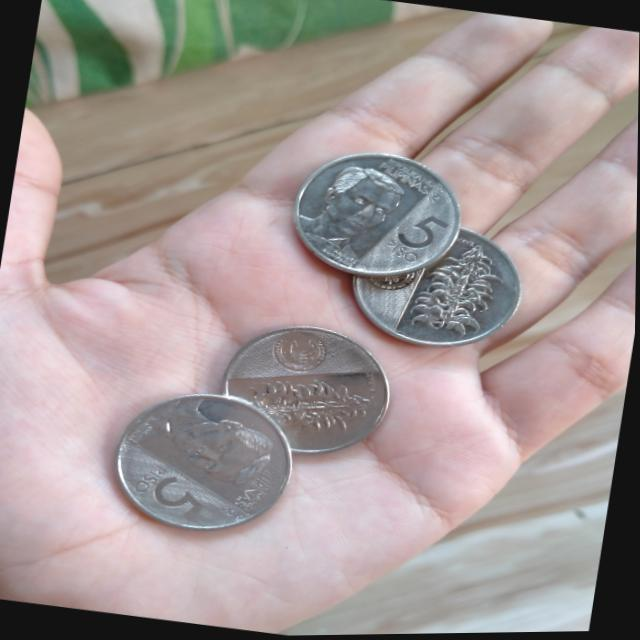5_New_Back: (406, 221, 514, 353), (243, 362, 384, 446)
5_New_Front: (119, 456, 218, 528), (365, 191, 452, 272)
